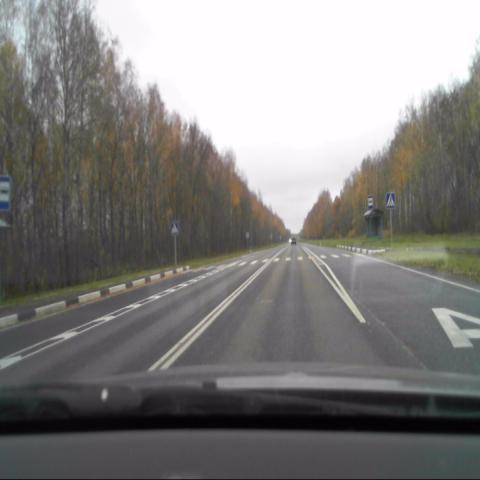5_16: (0, 176, 12, 208), (367, 195, 374, 211)
5_19_1: (386, 191, 395, 207), (170, 218, 178, 234)
